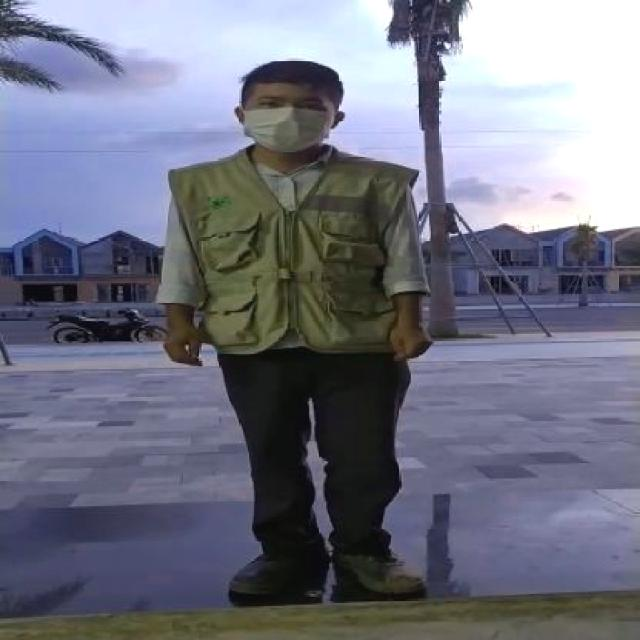face_mask: (243, 90, 340, 153)
hand_noglove: (155, 310, 214, 376), (384, 309, 441, 365)
head_nohelmet: (240, 53, 342, 101)
person: (153, 55, 441, 600)
shoes: (216, 544, 326, 596), (332, 543, 428, 595)
vest: (157, 140, 429, 360)
